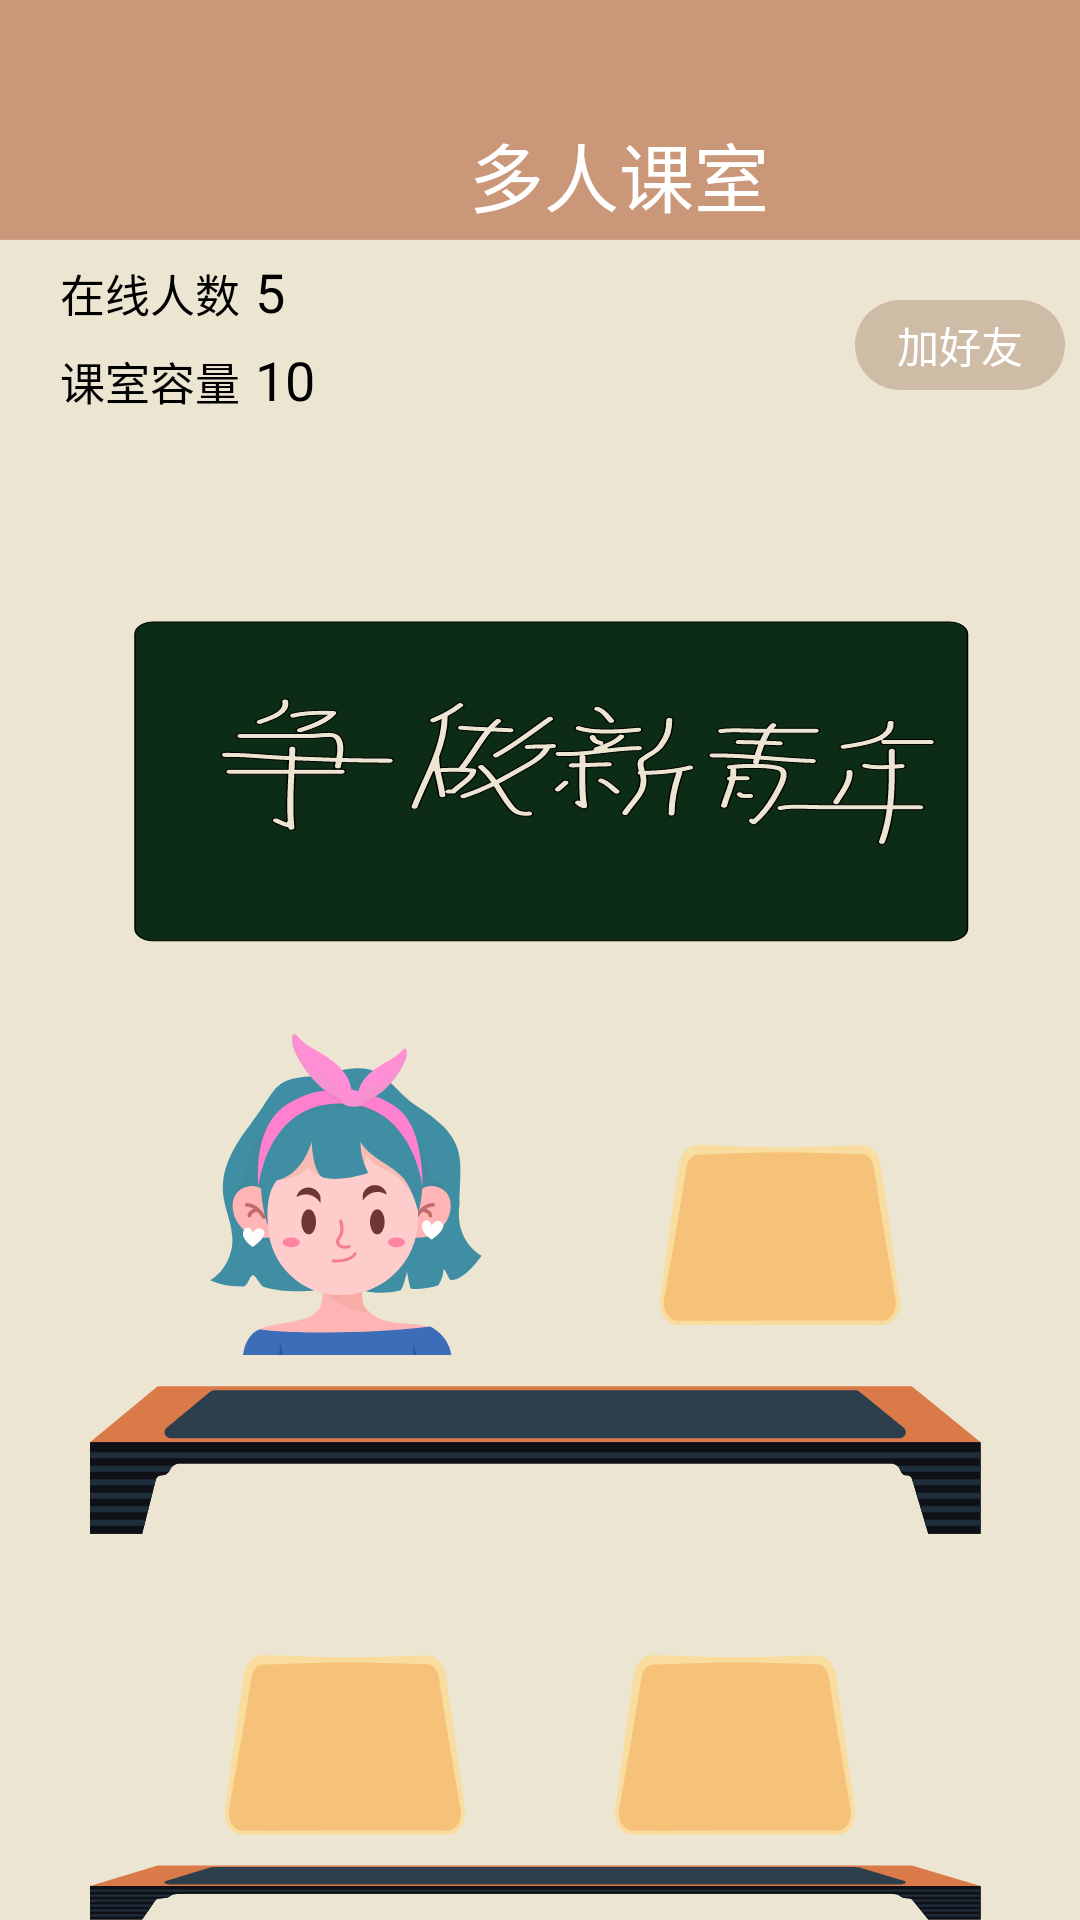

Screen size 1080w x 1920h. Icon name, then its box in pixels as (x1, y1, x2, y2):
girl: (210, 1034, 482, 1355)
